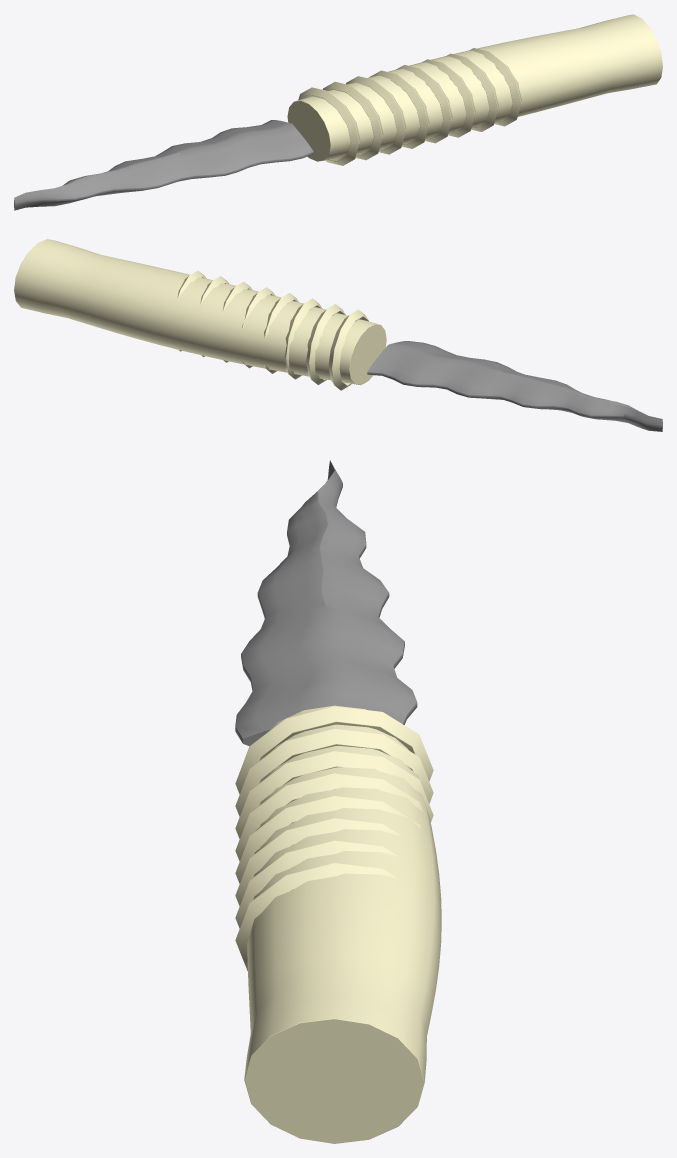
Rendered from stone_knife.glb.
3 views of the same model, one above another, from view 1: azimuth 30°, elevation 25°; view 2: azimuth 150°, elevation 25°; view 3: azimuth 270°, elevation 25° (orthographic). The views are drawn at different scales.
Visible parts, largest first — view 1: stone_knife; view 2: stone_knife; view 3: stone_knife.
Part boxes in pixels (x1,y1,x2,y2): stone_knife: [14, 14, 662, 210]; stone_knife: [14, 239, 662, 431]; stone_knife: [235, 460, 441, 1143].
Size of the model in its own units: 0.2045 by 0.0221 by 0.0293.
